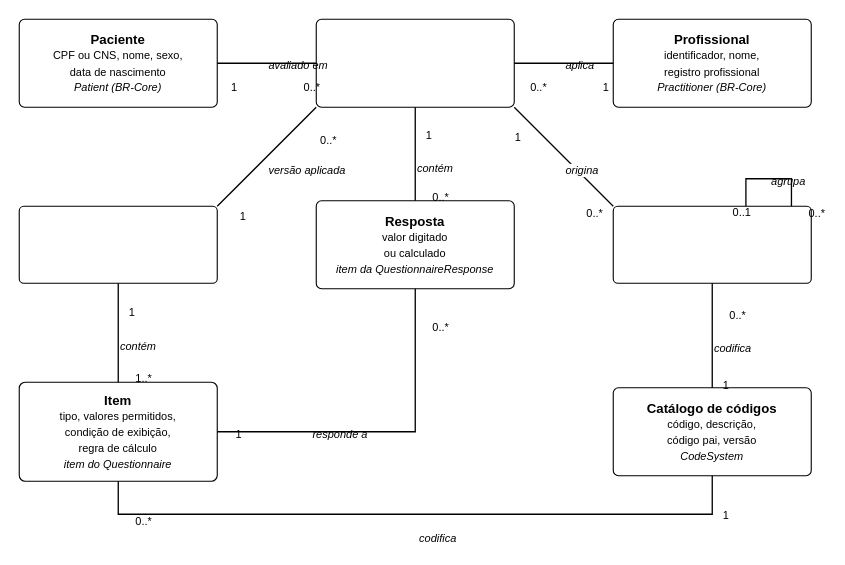
Image size: 845x565. Some labels were removed from this diagram. The shapes that lost their labels are listed below. From the top down, each one's box as (x1, y1, x2, y2) in pixels, then its label:
(315, 18, 514, 107): Avaliação estado, data, versão do instrumento QuestionnaireResponse
(18, 205, 217, 283): Instrumento código, versão Questionnaire
(612, 205, 811, 283): Resultado código, valor, data Observation (BR-Core)
